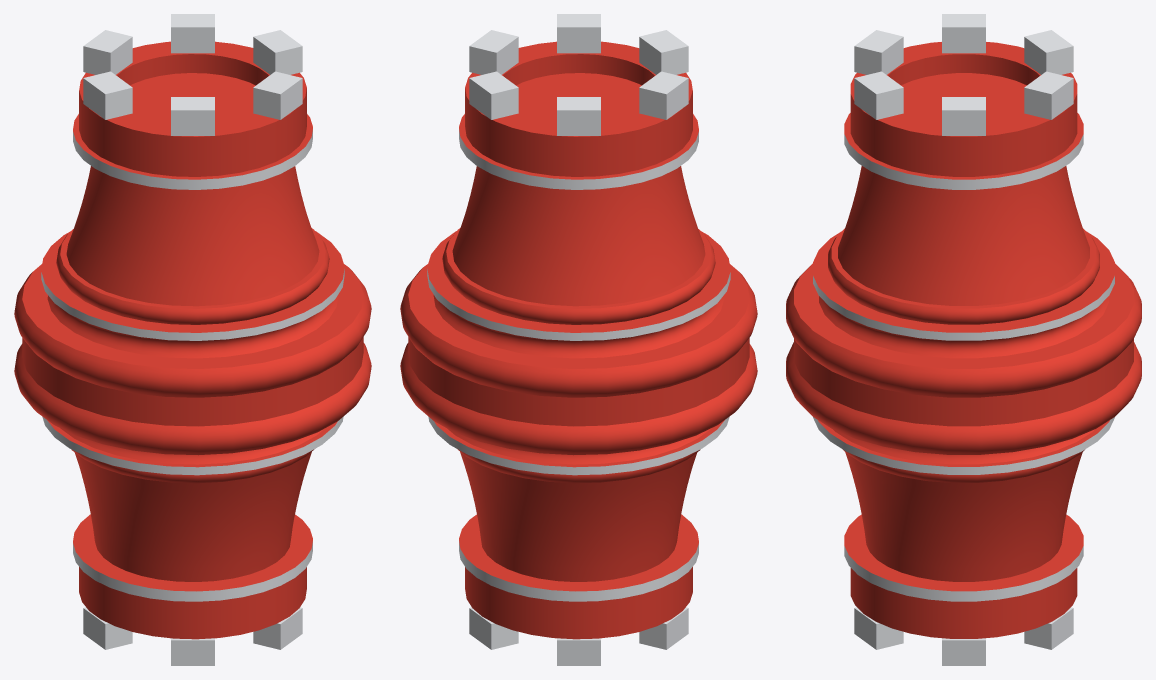
Rendered from rook-classic.glb.
3 views of the same model, side by side, from view 1: azimuth 30°, elevation 25°; view 2: azimuth 150°, elevation 25°; view 3: azimuth 270°, elevation 25° (orthographic).
Parts seen in each view (by area): view 1: rook-classic; view 2: rook-classic; view 3: rook-classic.
Part boxes in pixels (x1,y1,x2,y2): rook-classic: (14,14,371,665); rook-classic: (400,14,757,665); rook-classic: (786,14,1141,665).
Bounding box in the file's own units: 0.4836 × 0.8333 × 0.4836.
